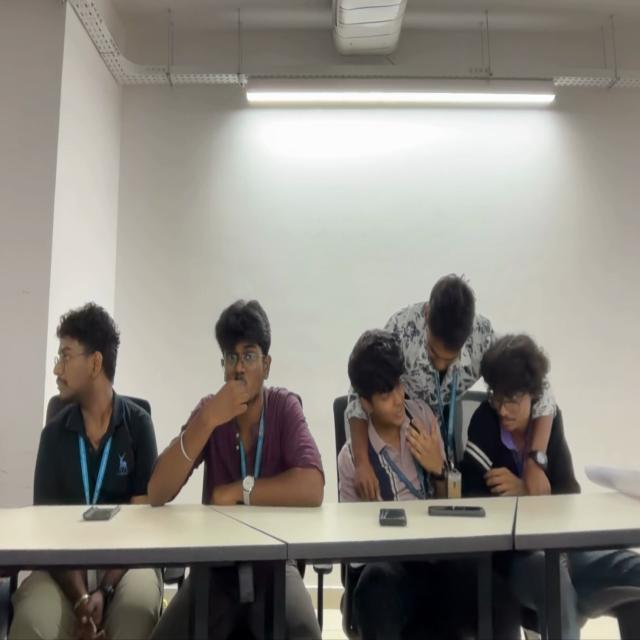Isolated: (155, 298, 323, 506), (34, 300, 148, 499)
socializing: (338, 269, 582, 497)
